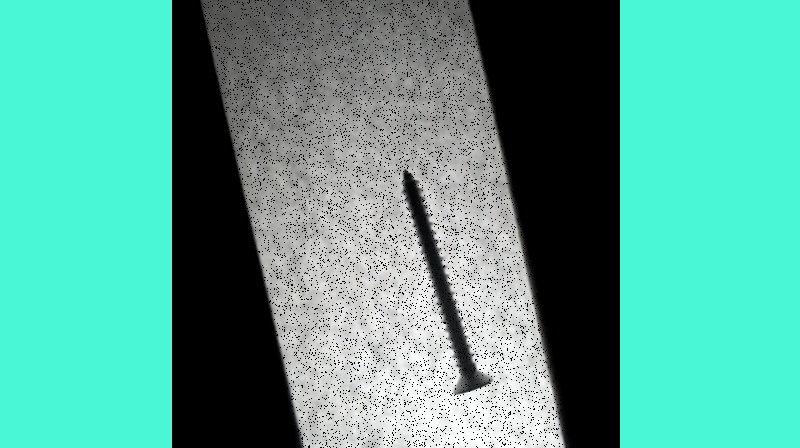S002: (399, 164, 494, 397)
